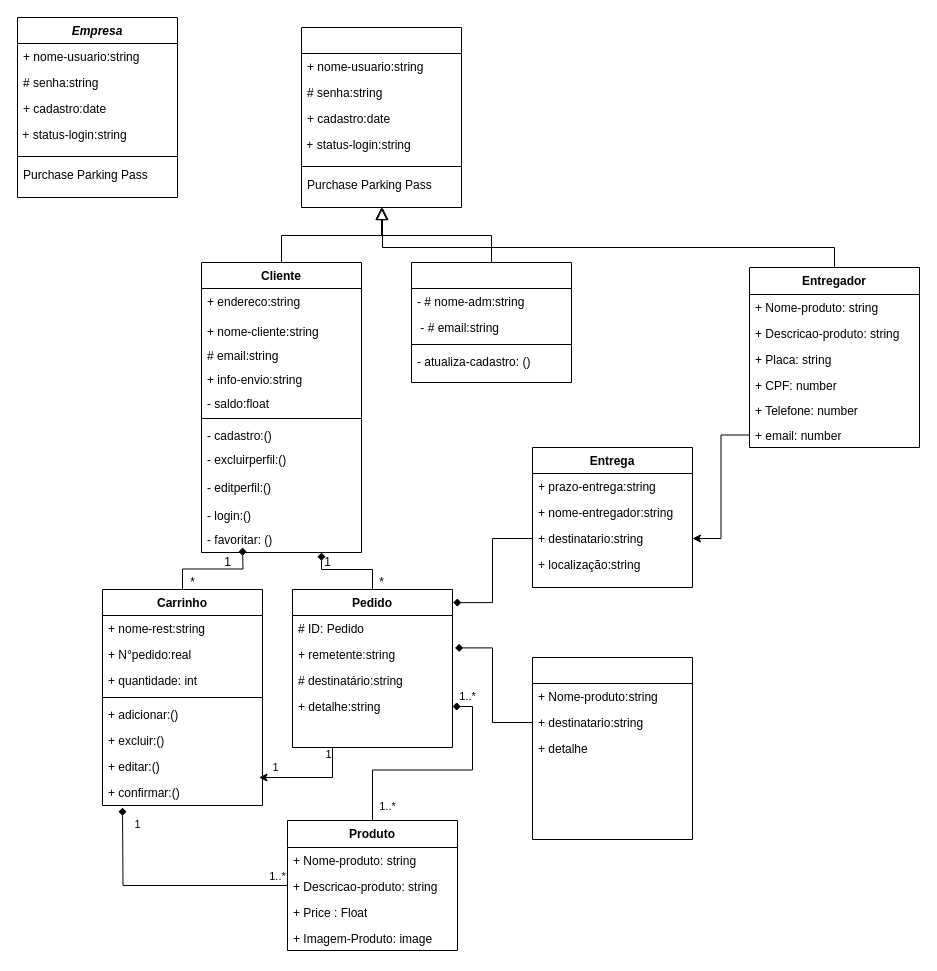
Image size: 937x971. Some labels were removed from this diagram. The shapes that lost their labels are listed below. From the top down, each one's box as (x1, y1, x2, y2) in pixels, then its label:
(300, 26, 462, 208): Usuário
(410, 262, 572, 382): administrador
(532, 656, 692, 840): Detalhe do pedido
